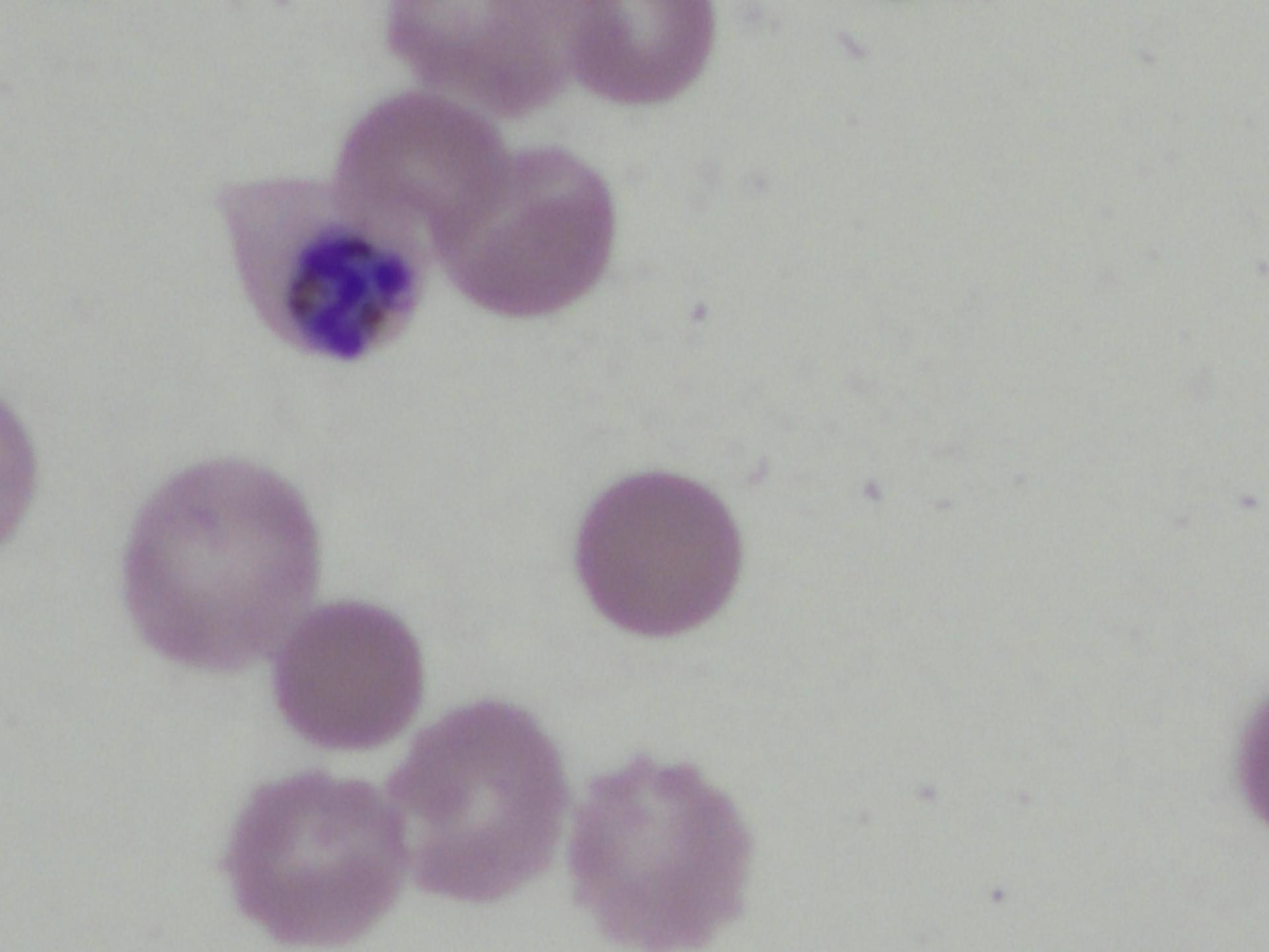Infected: (212, 173, 435, 359)
Uninfected: (123, 461, 326, 668), (390, 703, 574, 901), (571, 763, 748, 951), (337, 89, 518, 269), (231, 774, 413, 948), (445, 144, 611, 316), (577, 470, 740, 638), (388, 0, 585, 121), (275, 596, 423, 740), (562, 0, 720, 109)
